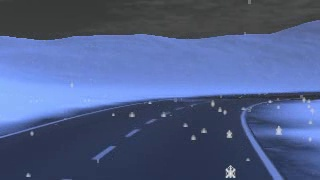Lane: (1, 92, 318, 179)
